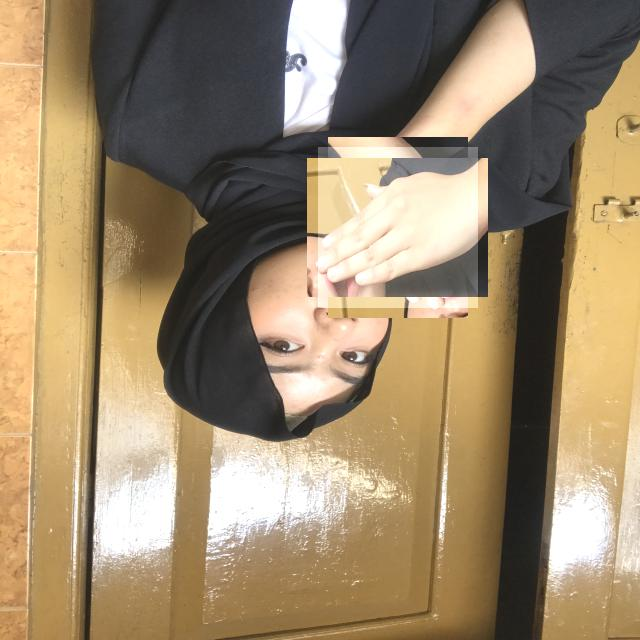ngantuk: (318, 147, 478, 308)
